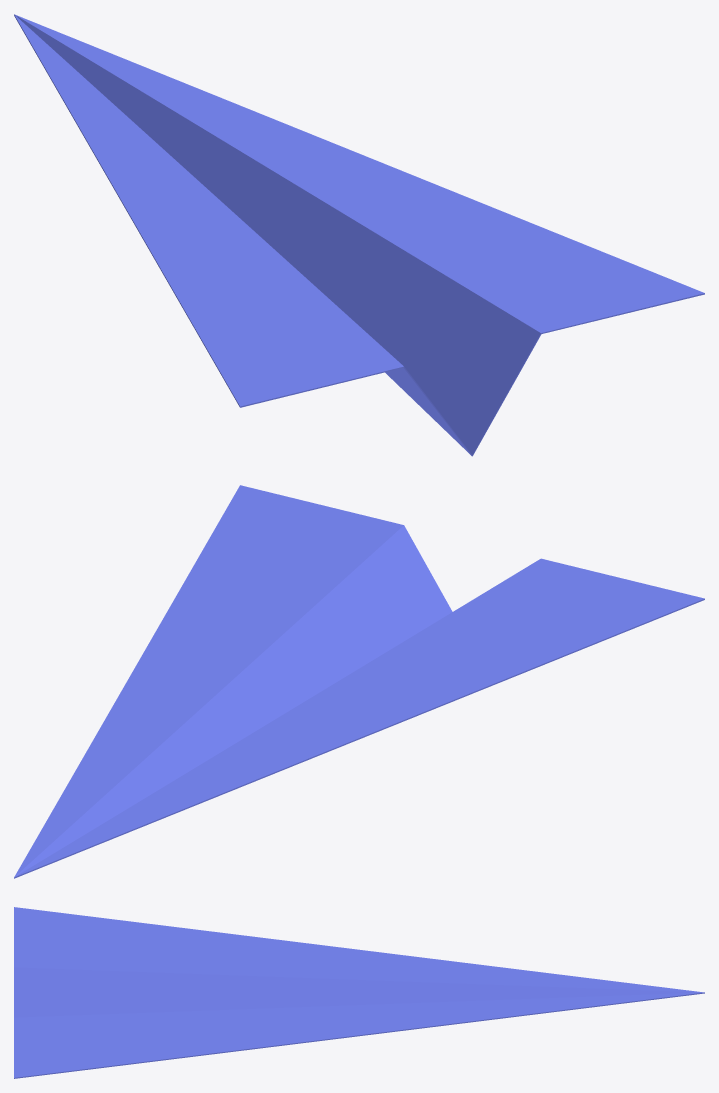
Rendered from kagiz.fbx.
The picture shows the model from 3 angles, top to bottom: view 1: azimuth 30°, elevation 25°; view 2: azimuth 150°, elevation 25°; view 3: azimuth 270°, elevation 25°; orthographic projection. The views are drawn at different scales.
Visible parts, largest first — view 1: Plane; view 2: Plane; view 3: Plane.
Part boxes in pixels (box(x1,y1,x2,y2)): Plane: box(14, 14, 704, 456); Plane: box(14, 485, 704, 878); Plane: box(14, 907, 704, 1078).
Bounding box in the file's own units: 1086 × 239 × 1855.
